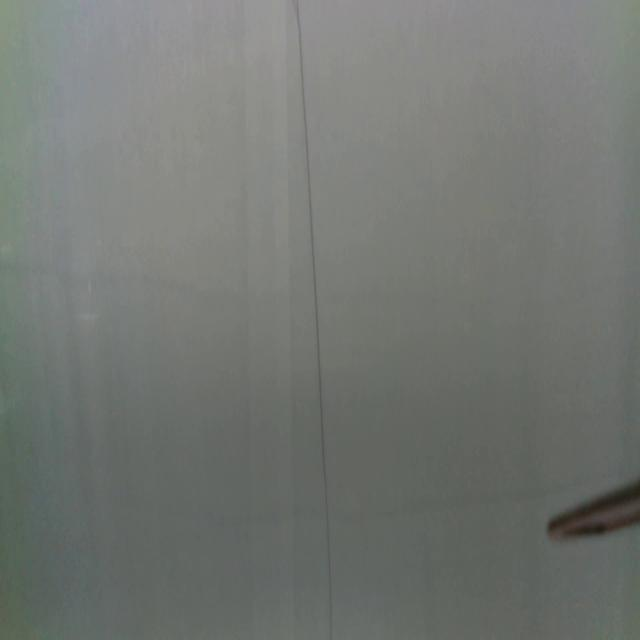crease: (240, 0, 296, 640), (295, 1, 333, 640)
